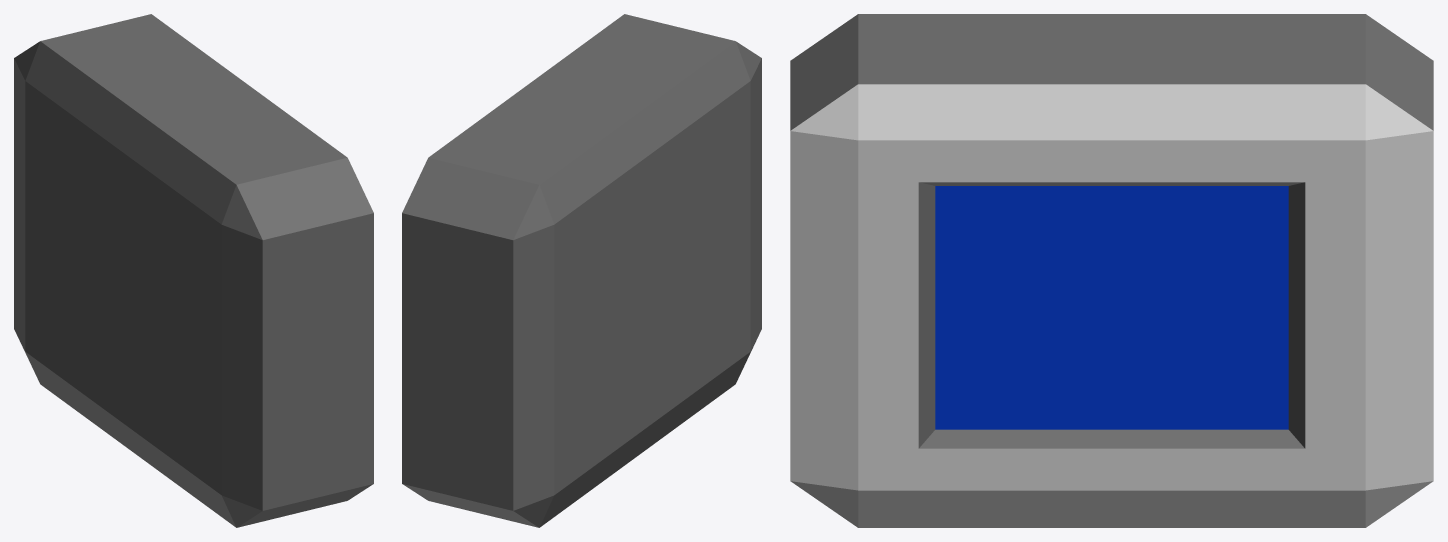
The model's file is Overcharge.fbx.
The picture shows the model from 3 angles, left to right: view 1: azimuth 30°, elevation 25°; view 2: azimuth 150°, elevation 25°; view 3: azimuth 270°, elevation 25°; orthographic projection. The views are drawn at different scales.
Parts seen in each view (by area): view 1: Cube; view 2: Cube; view 3: Cube.
Boxes of the visible parts, box(x1,y1,x2,y2) form: Cube: box(14, 14, 373, 527); Cube: box(402, 14, 761, 527); Cube: box(790, 14, 1433, 527).
Size of the model in its own units: 143 by 332 by 437.
